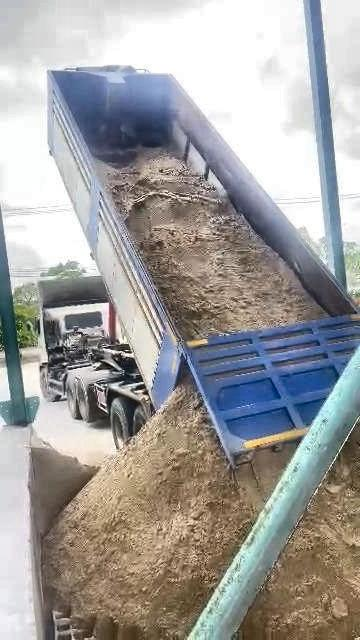sand: (45, 383, 291, 637), (100, 150, 325, 337), (244, 442, 360, 639), (30, 432, 100, 577)
